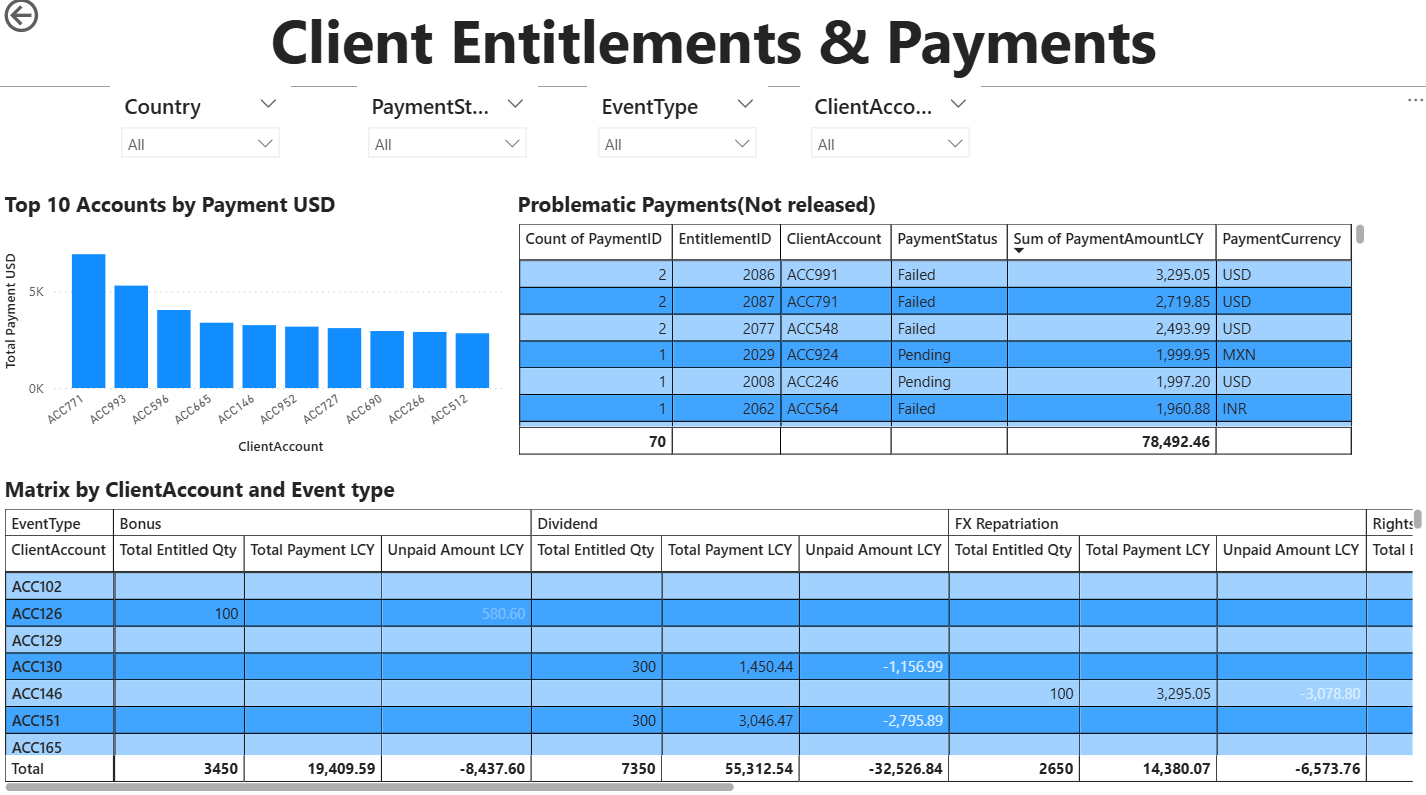

The dashboard page shown, as its layout file describes it:
{"tool":"powerbi","page":{"name":"Client Entitlements & Payments","canvas":[1280,720],"ordinal":1},"visuals":[{"type":"textbox","box":[0,0,1280.3,84.4],"z":0},{"type":"pivotTable","title":"Matrix by ClientAccount and Event type","fields":{"Rows":["Entitlements.ClientAccount"],"Columns":["Events.EventType"],"Values":["Entitlements.Total Entitled Qty","Payments.Total Payment LCY","Payments.Unpaid Amount LCY"]},"box":[0,431.4,1279.7,288.6],"z":1000},{"type":"columnChart","title":"Top 10 Accounts by Payment USD","fields":{"Category":["Entitlements.ClientAccount"],"Y":["Payments.Total Payment USD"]},"box":[0,176.1,459.8,242.1],"z":2000},{"type":"tableEx","title":"Problematic Payments(Not released)","fields":{"Values":["CountNonNull(Payments.PaymentID)","Entitlements.EntitlementID","Events.ClientAccount","Payments.PaymentStatus","Sum(Payments.PaymentAmountLCY)","Payments.PaymentCurrency"]},"box":[459.8,176.1,769.2,242.1],"z":3000},{"type":"actionButton","box":[0,0,100,40],"z":4000},{"type":"slicer","fields":{"Values":["Events.Country"]},"box":[99.6,83.7,161.6,73.6],"z":5000},{"type":"slicer","fields":{"Values":["Events.EventType"]},"box":[526.6,83.7,161.6,73.6],"z":6000},{"type":"slicer","fields":{"Values":["Payments.PaymentStatus"]},"box":[320.3,83.7,161.6,73.6],"z":7000},{"type":"slicer","fields":{"Values":["Events.ClientAccount"]},"box":[717.1,83.7,161.6,73.6],"z":8000}]}

Visuals, with their boxes on the page's 1280x720 design canvas (x1, y1, x2, y2). These are canvas units, not pixel positions in the 1426x795 screenshot, which may show the page scaled, cropped or inside an application window:
textbox: (0, 0, 1280, 84)
"Matrix by ClientAccount and Event type" pivotTable: (0, 431, 1280, 720)
"Top 10 Accounts by Payment USD" columnChart: (0, 176, 460, 418)
"Problematic Payments(Not released)" tableEx: (460, 176, 1229, 418)
actionButton: (0, 0, 100, 40)
slicer - Events.Country: (100, 84, 261, 157)
slicer - Events.EventType: (527, 84, 688, 157)
slicer - Payments.PaymentStatus: (320, 84, 482, 157)
slicer - Events.ClientAccount: (717, 84, 879, 157)
